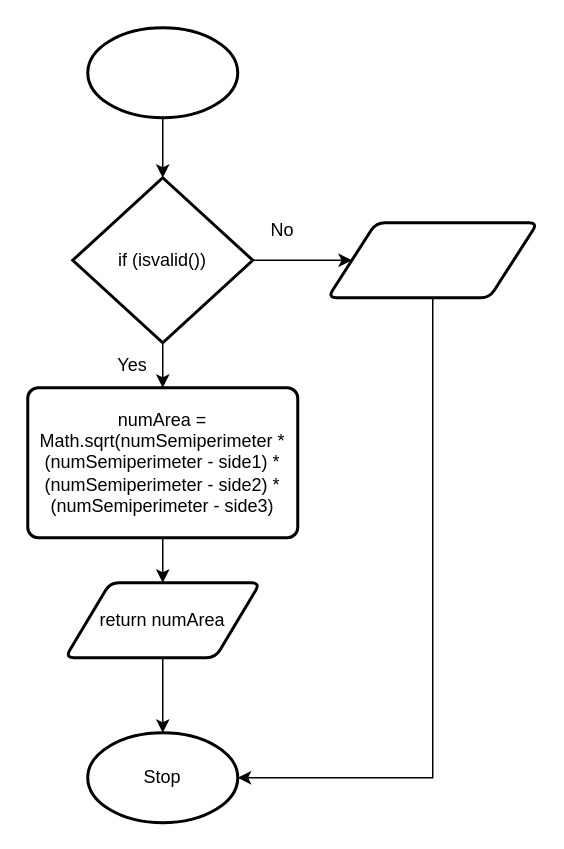
The diagram is 564 pixels wide and 849 high, and some of its shapes have lost their labels. The shapes that lost their labels are listed below. From the top down, each one's centre as x and y in pixels, then its label:
At pixel 162 72: "Start".
At pixel 432 259: "return -1".
